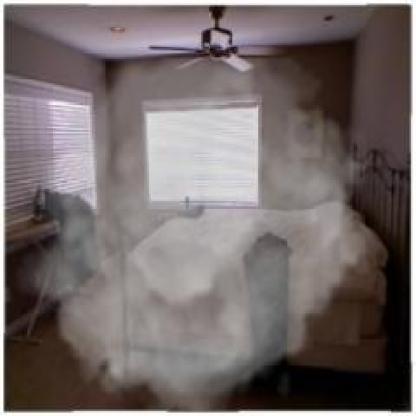Smoke: (15, 57, 382, 411)
